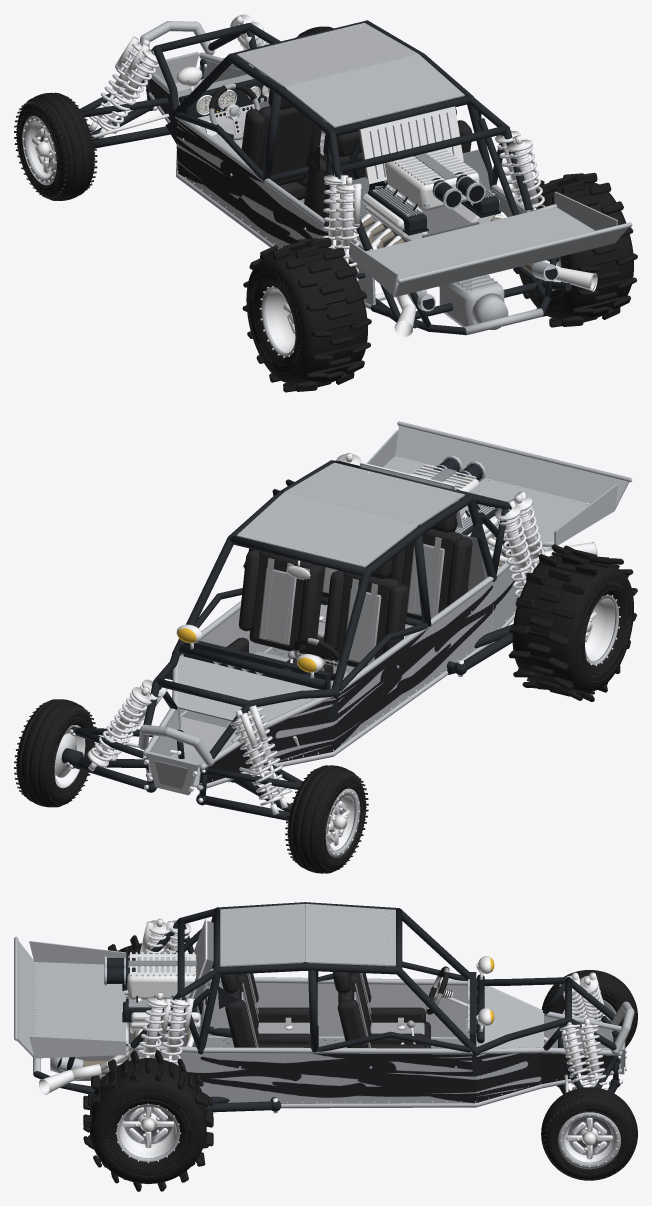
The model's file is sandcar.glb.
3 views of the same model, one above another, from view 1: azimuth 30°, elevation 25°; view 2: azimuth 150°, elevation 25°; view 3: azimuth 270°, elevation 25° (orthographic). The views are drawn at different scales.
Parts seen in each view (by area): view 1: Chassis_Mesh, Wheel_RL_Mesh, Wheel_RR_Mesh, Wheel_FL_Mesh, Shock_FL_Mesh, Shock_RL_2_Mesh, Shock_RR_2_Mesh, Shock_FL_2_Mesh, SteeringWheel_Mesh, Shock_RL_Mesh, Link_FL_Lower_0, Shock_RR_Mesh (+1 smaller); view 2: Chassis_Mesh, Wheel_RL_Mesh, Wheel_FL_Mesh, Wheel_FR_Mesh, Shock_FR_2_Mesh, Shock_RL_Mesh, Shock_FL_2_Mesh, Shock_FL_Mesh, Shock_RL_2_Mesh, Link_FL_Lower_2, Link_FR_Lower_2, Link_RL_Lower_2 (+1 smaller); view 3: Chassis_Mesh, Wheel_RR_Mesh, Wheel_FR_Mesh, Wheel_FL_Mesh, Shock_RR_2_Mesh, Shock_RR_Mesh, Shock_FR_2_Mesh, Shock_FR_Mesh, Link_RR_Lower_2, Shock_RL_2_Mesh, Shock_FL_2_Mesh, SteeringWheel_Mesh (+2 smaller).
Part boxes in pixels (x1,y1,x2,y2): Chassis_Mesh: (140, 20, 632, 337); Wheel_RL_Mesh: (242, 237, 371, 392); Wheel_RR_Mesh: (513, 172, 637, 327); Wheel_FL_Mesh: (14, 92, 97, 200); Shock_FL_Mesh: (96, 43, 159, 138); Shock_RL_2_Mesh: (334, 177, 361, 281); Shock_RR_2_Mesh: (507, 135, 545, 210); Shock_FL_2_Mesh: (89, 36, 150, 132); SteeringWheel_Mesh: (209, 83, 260, 140); Shock_RL_Mesh: (322, 174, 348, 253); Link_FL_Lower_0: (92, 126, 170, 148); Shock_RR_Mesh: (495, 131, 523, 204); Chassis_Mesh: (138, 421, 632, 796); Wheel_RL_Mesh: (508, 544, 637, 701); Wheel_FL_Mesh: (285, 765, 368, 873); Wheel_FR_Mesh: (14, 699, 96, 807); Shock_FR_2_Mesh: (87, 686, 157, 771); Shock_RL_Mesh: (495, 500, 533, 597); Shock_FL_2_Mesh: (230, 710, 282, 814); Shock_FL_Mesh: (247, 705, 291, 808); Shock_RL_2_Mesh: (511, 491, 544, 575); Link_FL_Lower_2: (196, 794, 289, 820); Link_FR_Lower_2: (65, 760, 157, 792); Link_RL_Lower_2: (454, 632, 512, 677); Chassis_Mesh: (14, 902, 634, 1108); Wheel_RR_Mesh: (83, 1050, 213, 1191); Wheel_FR_Mesh: (541, 1087, 637, 1180); Wheel_FL_Mesh: (541, 970, 637, 1047); Shock_RR_2_Mesh: (137, 992, 172, 1058); Shock_RR_Mesh: (160, 997, 193, 1065); Shock_FR_2_Mesh: (578, 1018, 608, 1090); Shock_FR_Mesh: (559, 1022, 590, 1089); Link_RR_Lower_2: (206, 1098, 281, 1113); Shock_RL_2_Mesh: (140, 918, 168, 953); Shock_FL_2_Mesh: (579, 972, 608, 1022); SteeringWheel_Mesh: (426, 966, 453, 1014).
Size of the model in its own units: 2.59 by 1.6 by 4.77.
Materials: 26 (2 with a texture image).
